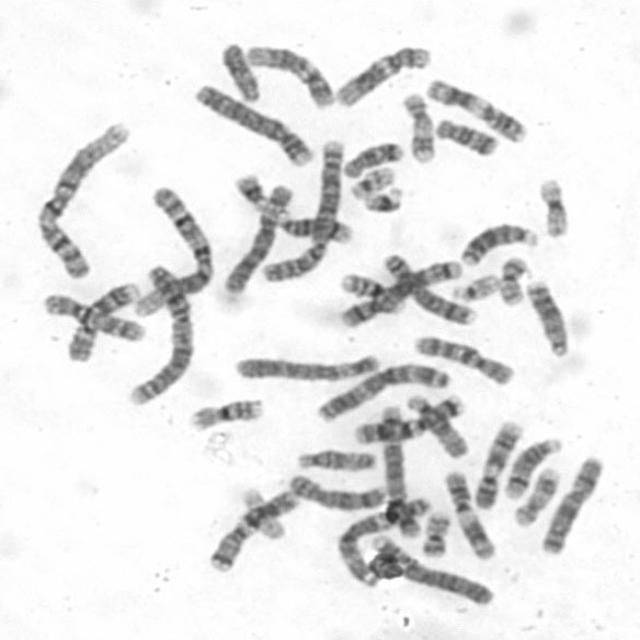A1: (29, 118, 132, 281), (128, 182, 216, 320)
A2: (259, 138, 346, 285), (123, 258, 195, 408)
A3: (332, 492, 433, 588), (312, 359, 453, 425)
B4: (190, 80, 316, 168), (363, 530, 495, 607)
B5: (335, 255, 467, 329), (378, 402, 423, 540)
C10: (38, 289, 148, 344), (410, 331, 516, 387)
C11: (422, 74, 530, 144), (440, 468, 498, 562)
C12: (331, 40, 433, 109), (244, 41, 336, 110)
C6: (218, 181, 295, 296), (230, 349, 382, 383)
C7: (205, 485, 301, 573), (350, 390, 466, 444)
C8: (379, 251, 478, 328), (285, 471, 389, 514)
C9: (62, 280, 142, 363), (470, 417, 524, 509)
D13: (522, 276, 571, 359), (456, 218, 539, 267)
D14: (501, 434, 563, 500), (268, 208, 353, 246)
D15: (402, 392, 470, 461), (293, 446, 378, 472)
E16: (336, 269, 406, 315), (184, 394, 264, 432)
E17: (509, 464, 561, 528), (398, 88, 437, 166)
E18: (430, 114, 500, 158), (338, 138, 406, 180)
F19: (237, 483, 289, 542), (534, 174, 570, 240)
F20: (494, 252, 530, 307), (418, 508, 452, 560)
G21: (231, 168, 270, 210), (360, 183, 406, 216)
G22: (346, 162, 397, 200), (447, 270, 502, 303)
X: (537, 453, 606, 557)
